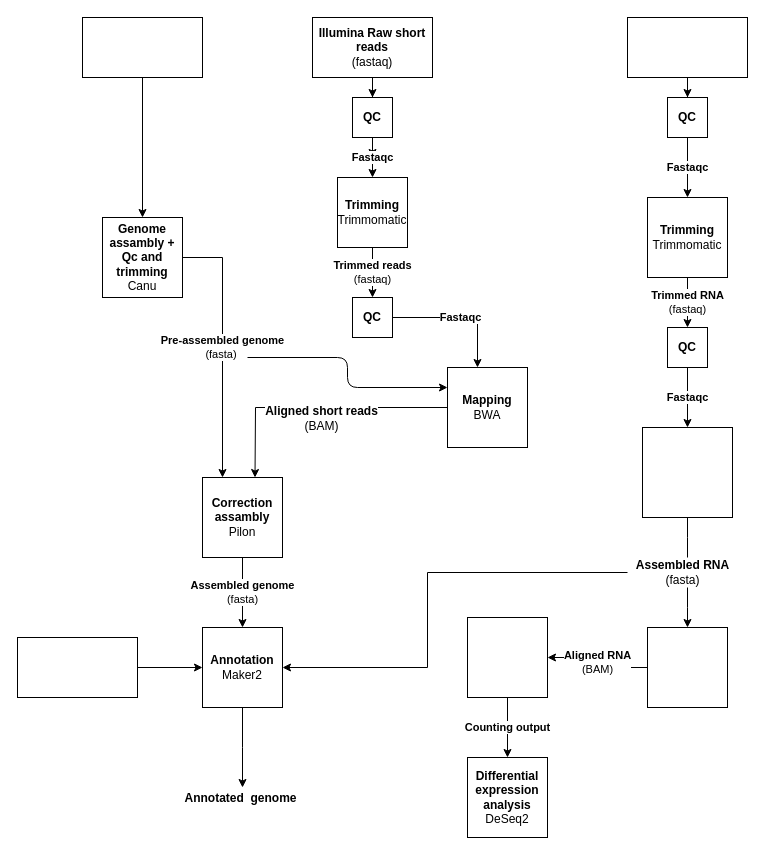
The diagram is 765 pixels wide and 855 high, and some of its shapes have lost their labels. The centre of each missing label's shape, as x and y in pixels:
Alignment Tophat: the point at 687,667
Counting Htseq: the point at 507,657
Currated protein sequences from other species (fasta): the point at 77,667
PacBio raw long reads (fastaq): the point at 142,47
RNA-seq (fastaq): the point at 687,47
Transcriptome assambly Trinity: the point at 687,472
